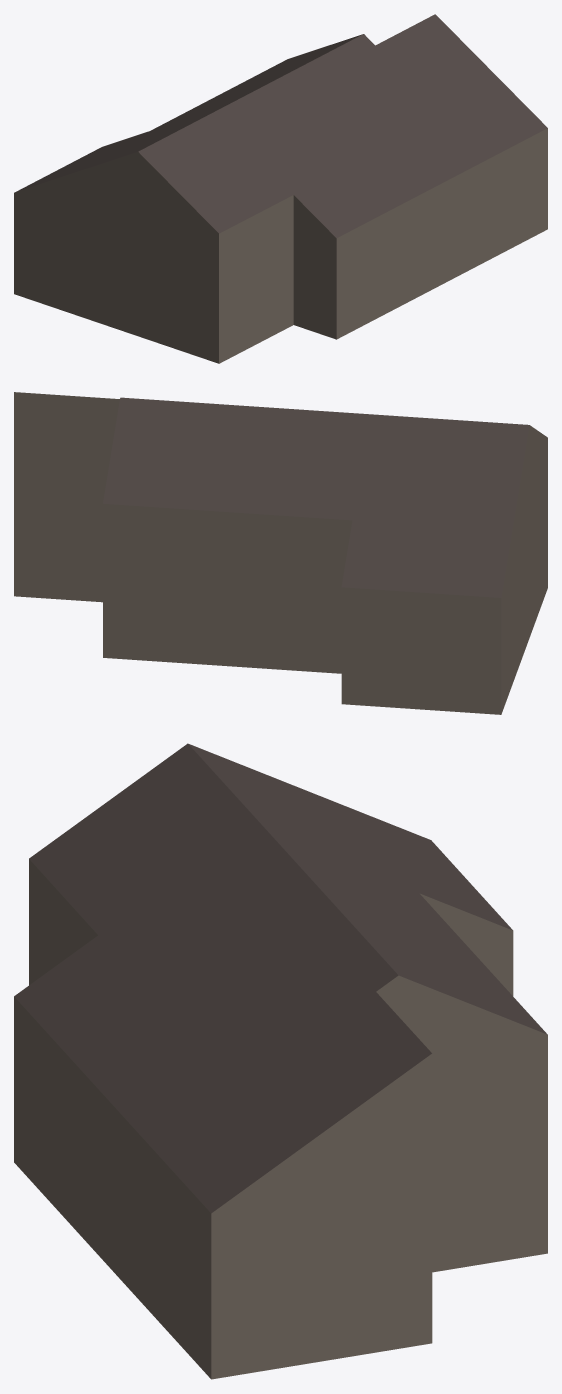
3 renders of one model, top to bottom at view 1: azimuth 30°, elevation 25°; view 2: azimuth 150°, elevation 25°; view 3: azimuth 270°, elevation 25°, orthographic. The views are drawn at different scales.
Visible parts, largest first — view 1: HP-w1376988778; view 2: HP-w1376988778; view 3: HP-w1376988778.
Boxes of the visible parts, box(x1,y1,x2,y2) form: HP-w1376988778: box(14, 14, 547, 363); HP-w1376988778: box(14, 392, 547, 714); HP-w1376988778: box(14, 743, 547, 1379).
Size of the model in its own units: 28.95 by 10.94 by 17.5.
